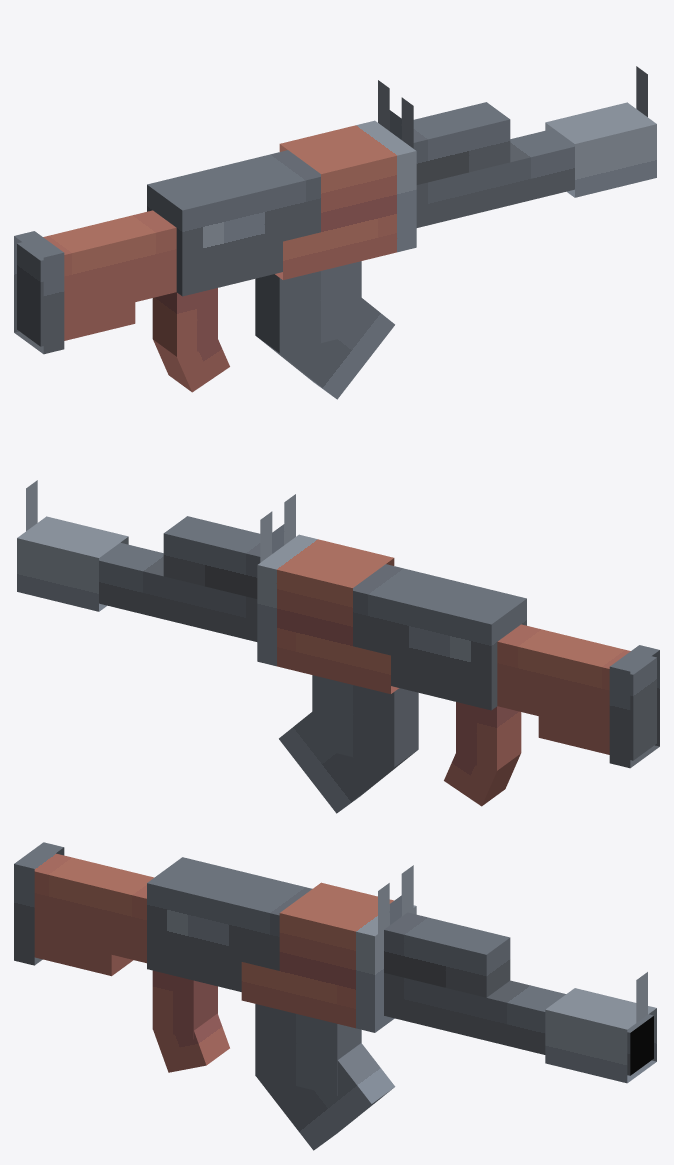
The picture shows the model from 3 angles, top to bottom: view 1: azimuth 30°, elevation 25°; view 2: azimuth 150°, elevation 25°; view 3: azimuth 330°, elevation 25°; orthographic projection.
Parts seen in each view (by area): view 1: cube.001; view 2: cube.001; view 3: cube.001.
Boxes of the visible parts, box(x1,y1,x2,y2) form: cube.001: box(14, 66, 656, 399); cube.001: box(17, 480, 659, 813); cube.001: box(14, 842, 656, 1150).
Size of the model in its own units: 29.87 by 13.33 by 3.5.
Materials: 1 (1 with a texture image).
